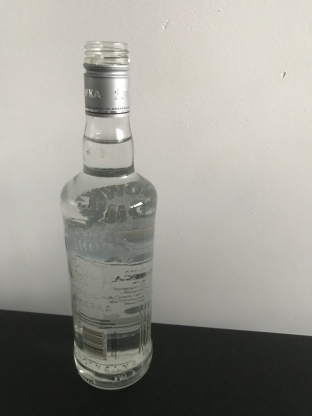nakretka: (81, 39, 131, 118)
